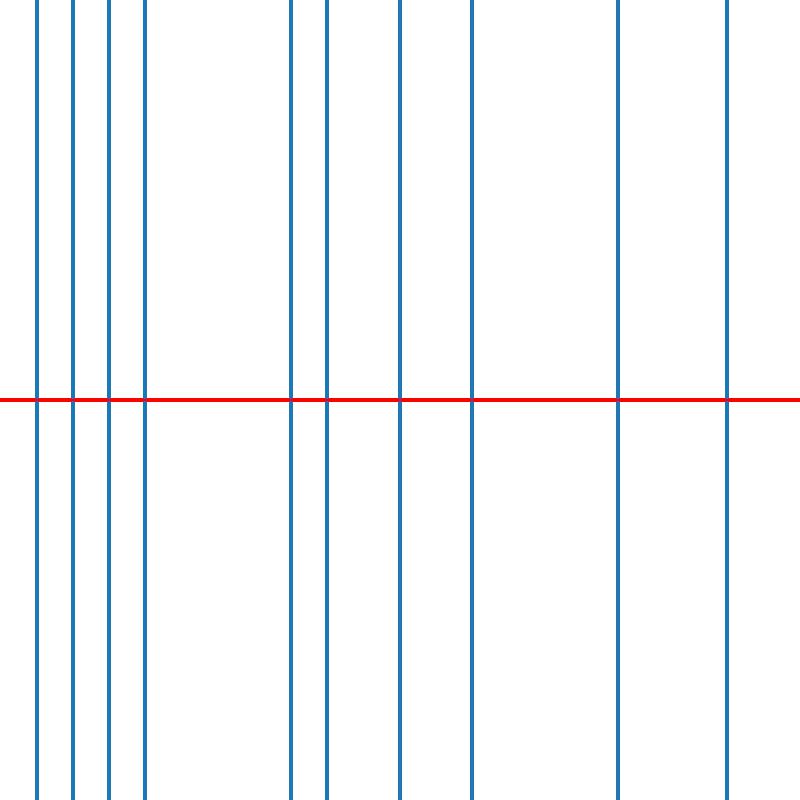root: (141, 396, 149, 404), (32, 396, 40, 404), (69, 396, 76, 404), (323, 396, 330, 404), (723, 396, 730, 404), (105, 396, 112, 404), (469, 396, 476, 404), (396, 396, 403, 404), (614, 396, 621, 404), (287, 396, 294, 404)
